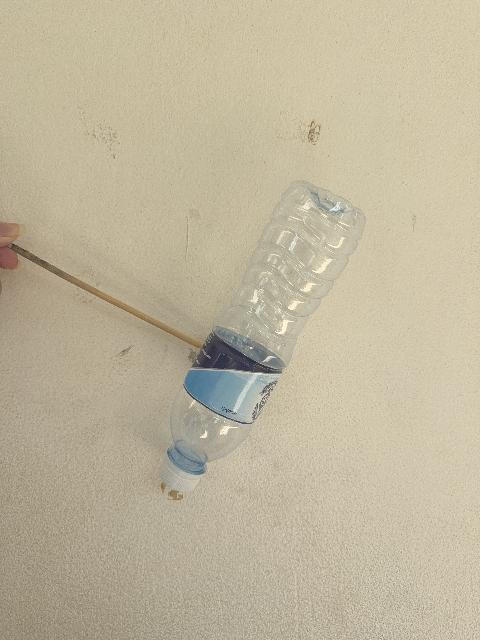bottle: (159, 182, 364, 491)
